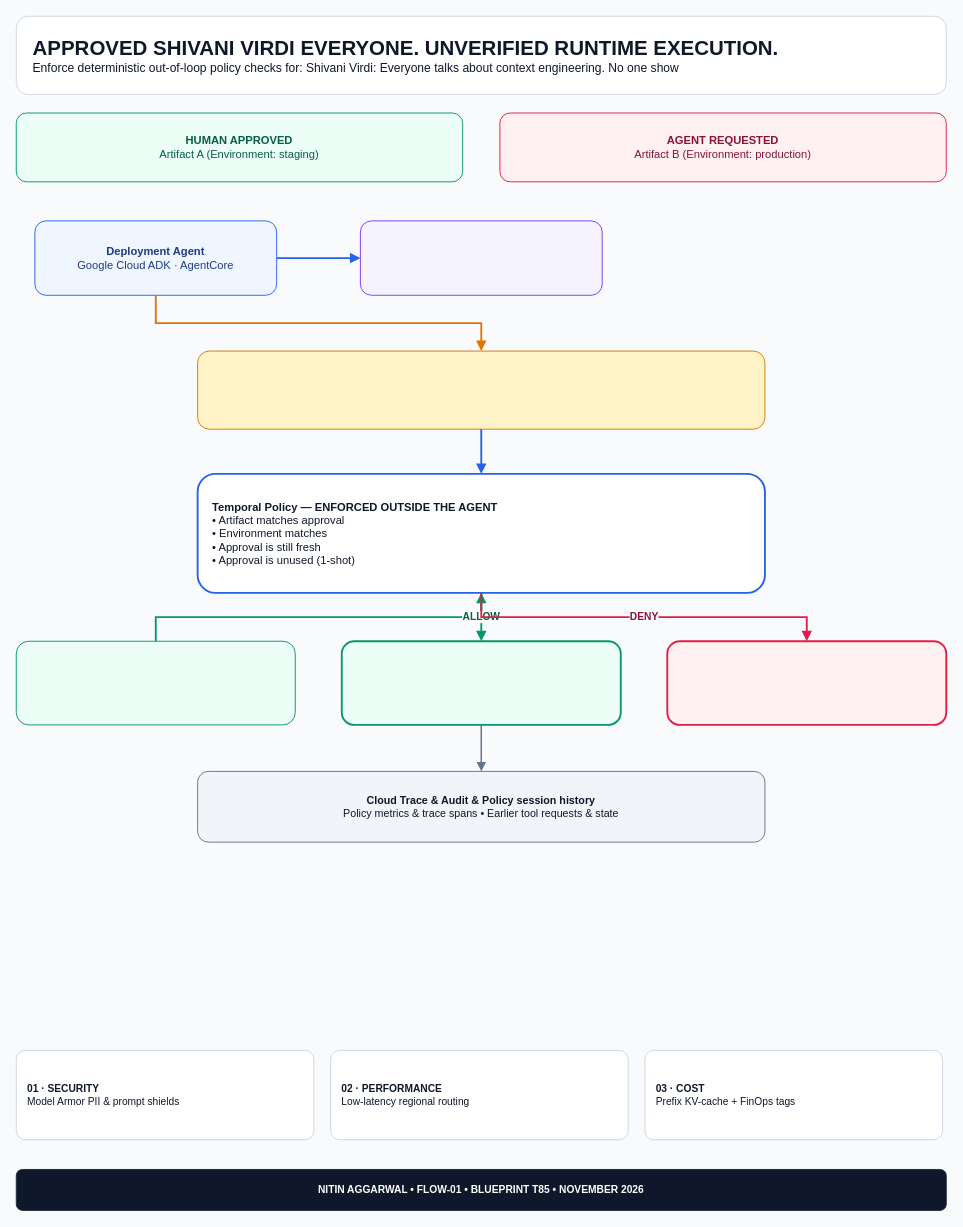
The diagram is 963 pixels wide and 1227 high, and some of its shapes have lost their labels. Here are the shapes that lost their labels. From the top down, the box of each, then its label:
(359, 220, 602, 295): Frontier LLM Vertex AI Gemini · Bedrock
(197, 350, 765, 429): Policy Gateway (ENFORCEMENT POINT) ADK BeforeToolCallback · Gateway
(15, 640, 295, 725): Authenticated human approver Approval service (Trusted approval lookup)
(340, 640, 621, 725): ALLOW → Deployment service Execute authorized deployment
(666, 640, 947, 725): DENY → Action blocked No deployment call is made
